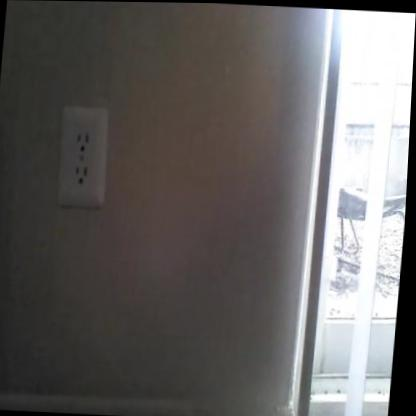OUTLET: (54, 106, 112, 207)
